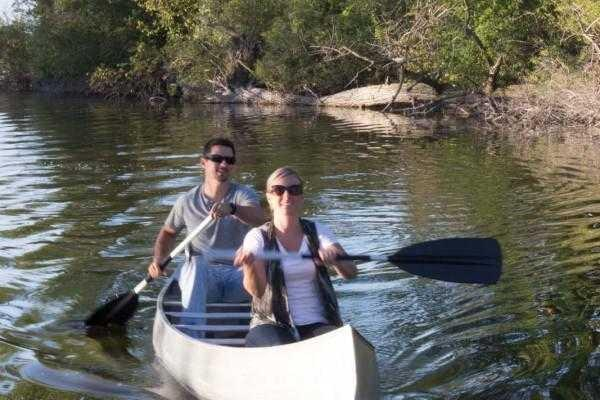kayak: (150, 281, 380, 397)
